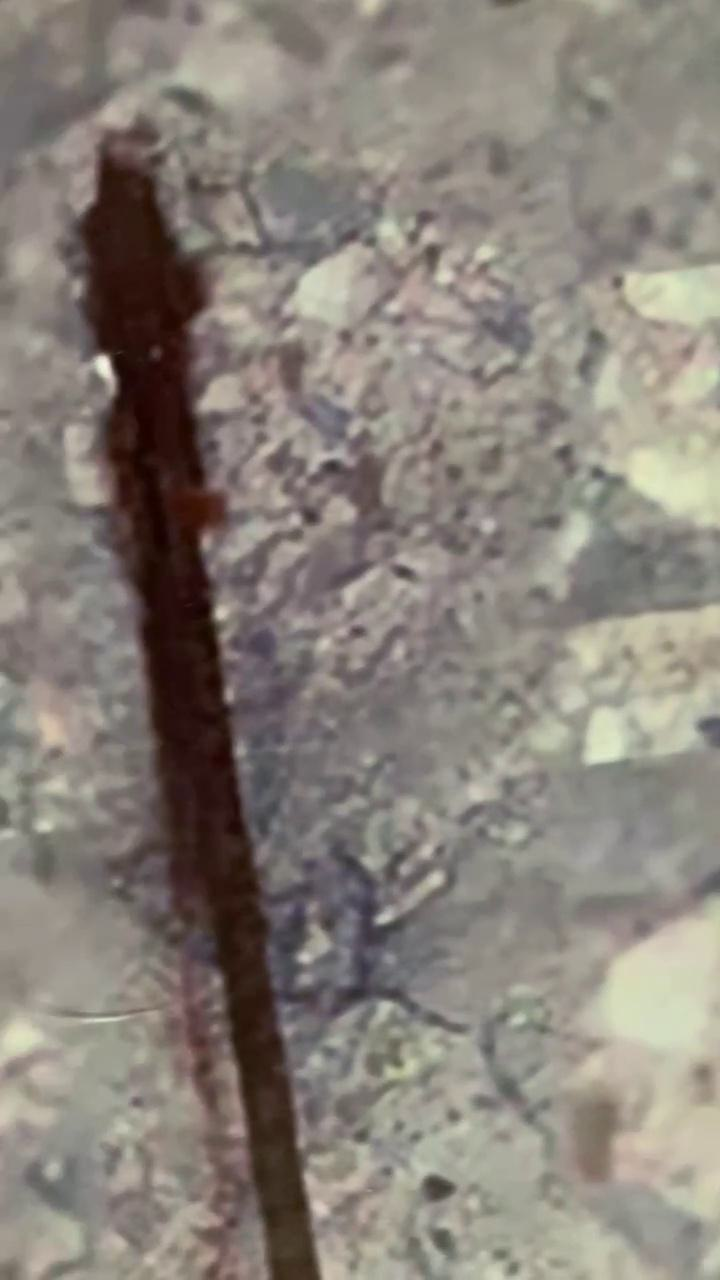Exposed reinforcement: (74, 128, 322, 1280)
